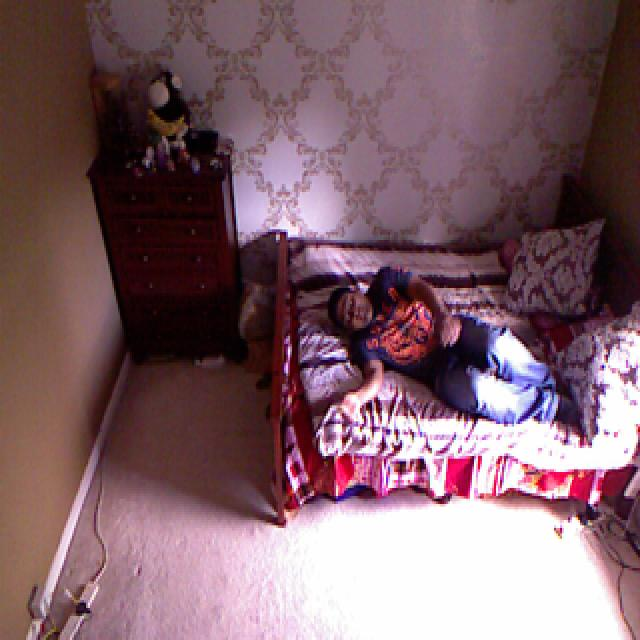lying: (322, 260, 583, 466)
